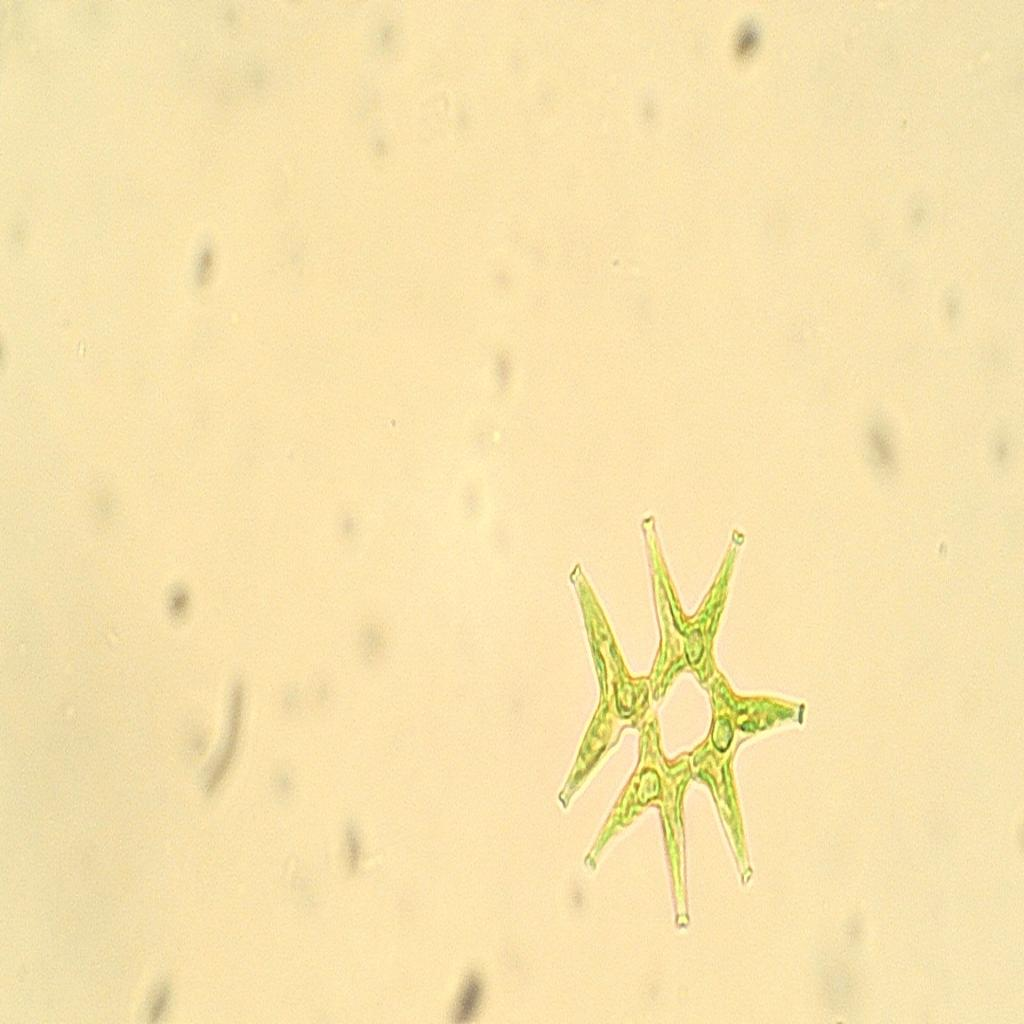Pediastrum_CT: (534, 478, 818, 954)
